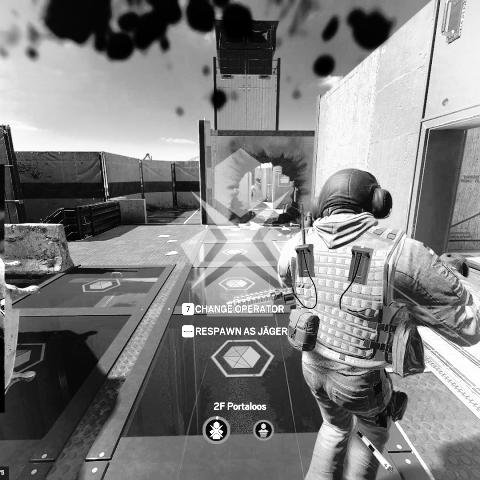Character: (273, 165, 480, 480), (250, 183, 256, 201)
Head: (311, 168, 391, 224), (251, 185, 255, 188)
